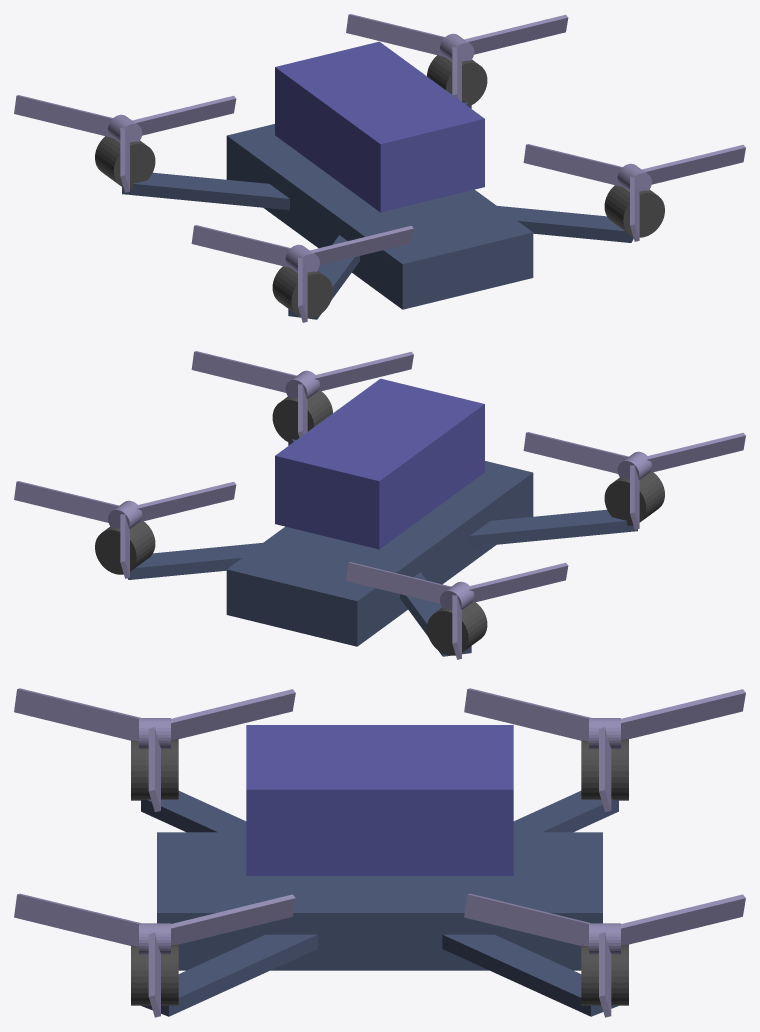
Rendered from Shocker.glb.
The picture shows the model from 3 angles, top to bottom: view 1: azimuth 30°, elevation 25°; view 2: azimuth 150°, elevation 25°; view 3: azimuth 270°, elevation 25°; orthographic projection. The views are drawn at different scales.
Visible parts, largest first — view 1: battery, frame_body, prop_0, prop_2, prop_3, prop_1, arm_3, arm_0, motor_0, motor_2, motor_3, motor_1 (+1 smaller); view 2: battery, frame_body, prop_2, prop_3, prop_1, prop_0, arm_2, arm_1, motor_1, motor_3, motor_2, motor_0 (+1 smaller); view 3: battery, frame_body, prop_1, prop_0, prop_3, prop_2, arm_1, arm_0, arm_3, arm_2, motor_1, motor_0 (+2 smaller).
Boxes of the visible parts, box(x1,y1,x2,y2) form: battery: box(275, 41, 484, 212); frame_body: box(226, 124, 533, 309); prop_0: box(523, 144, 745, 241); prop_2: box(191, 225, 413, 322); prop_3: box(14, 95, 236, 192); prop_1: box(346, 14, 568, 101); arm_3: box(122, 172, 289, 210); arm_0: box(497, 205, 633, 242); motor_0: box(604, 185, 664, 237); motor_2: box(272, 266, 332, 318); motor_3: box(95, 136, 155, 188); motor_1: box(427, 55, 487, 106); battery: box(275, 378, 484, 549); frame_body: box(226, 461, 533, 646); prop_2: box(523, 432, 745, 529); prop_3: box(346, 562, 568, 659); prop_1: box(14, 481, 236, 578); prop_0: box(191, 351, 413, 437); arm_2: box(470, 509, 637, 547); arm_1: box(128, 542, 262, 579); motor_1: box(95, 521, 155, 574); motor_3: box(427, 602, 487, 655); motor_2: box(604, 472, 664, 525); motor_0: box(272, 391, 332, 443); battery: box(246, 725, 513, 875); frame_body: box(157, 832, 602, 970); prop_1: box(464, 893, 745, 1017); prop_0: box(14, 893, 295, 1017); prop_3: box(464, 688, 745, 812); prop_2: box(14, 688, 295, 812); arm_1: box(442, 934, 618, 1016); arm_0: box(141, 934, 317, 1016); arm_3: box(513, 791, 618, 832); arm_2: box(141, 791, 246, 832); motor_1: box(581, 944, 628, 1005); motor_0: box(131, 944, 178, 1005).
Size of the model in its own units: 0.2293 by 0.06 by 0.2299.
